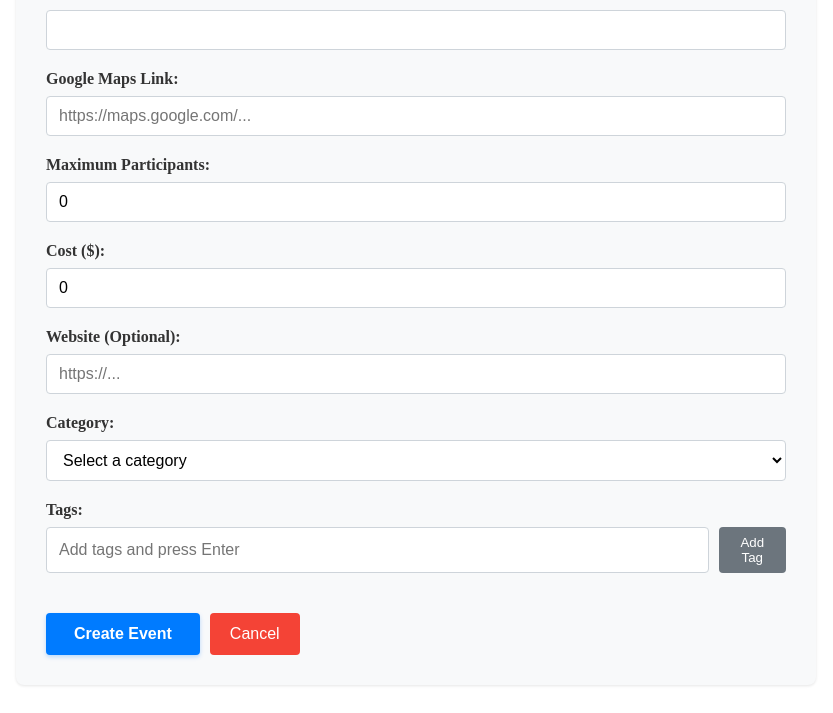
Test: <CreateEvent /> › allows adding and removing tags
(page scrolled)
In the field named "tagInput": (378, 550) [46,527,709,573], type "Test Tag"
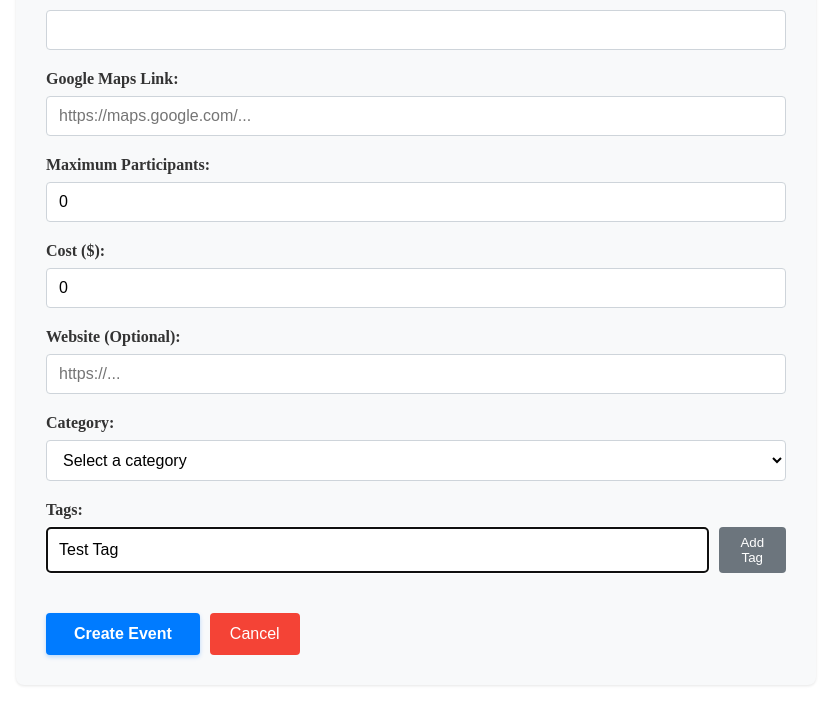
Click the button with class "add-tag-btn": (753, 550) [719,527,786,573]
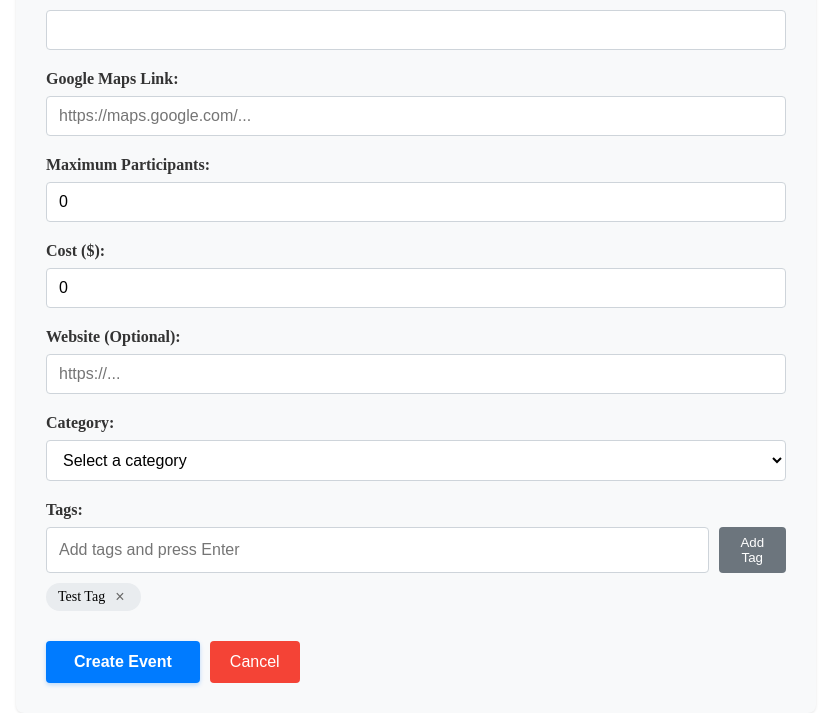
Now the element with class "tags-container" shows "Test Tag", box [58,589,105,604]
Click the button with class "remove-tag-btn": (120, 597) [111,588,128,606]
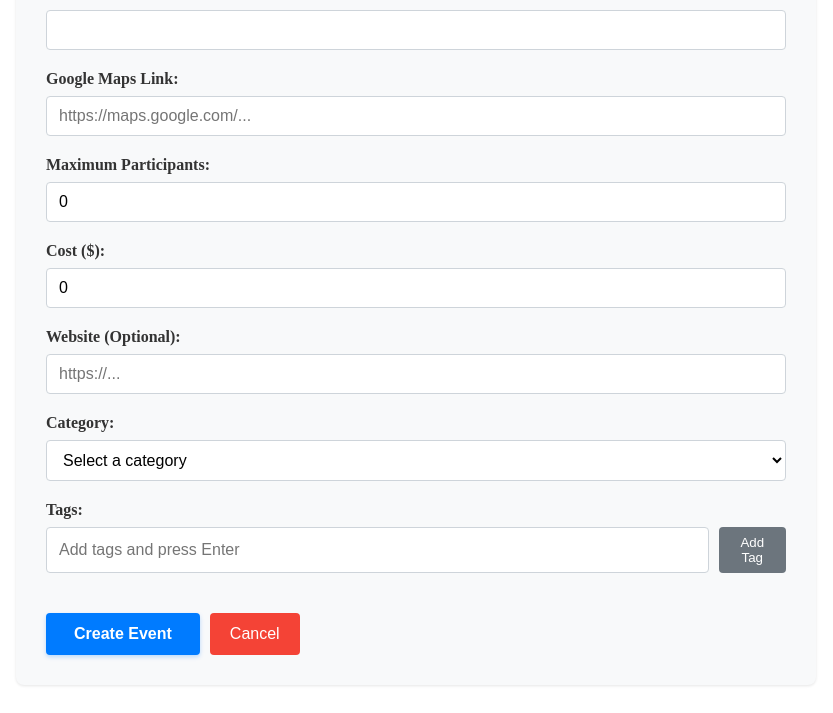
Now the element with class "tags-container" no longer shows "Test Tag"
